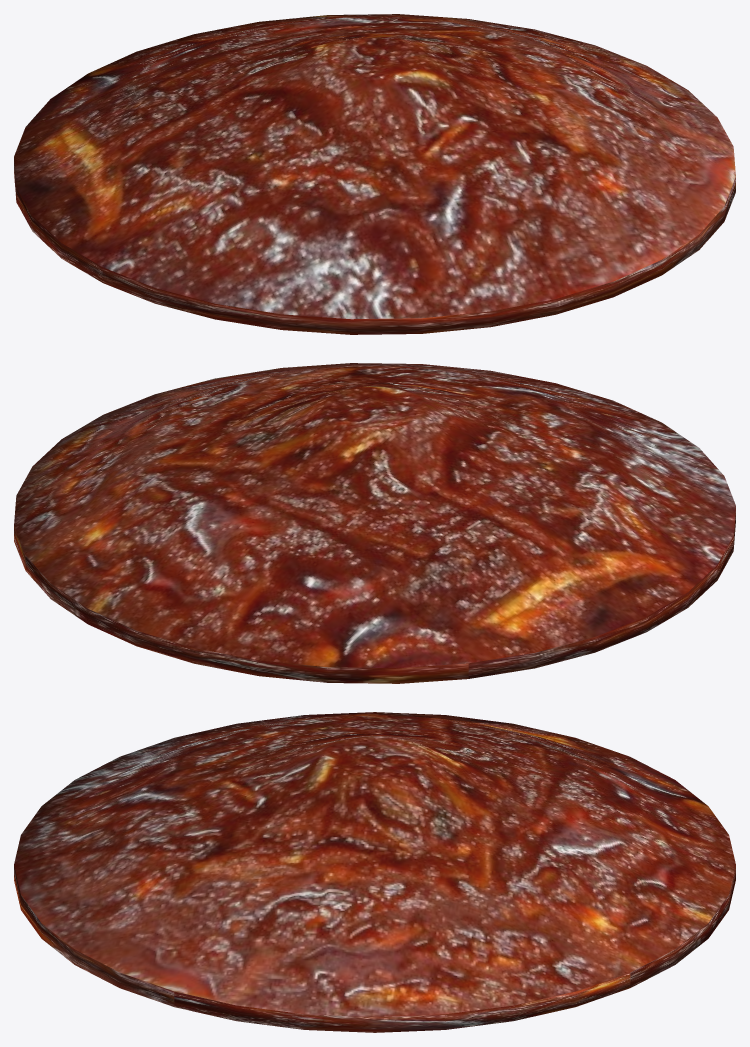
File: sambalCooked.fbx
The picture shows the model from 3 angles, top to bottom: view 1: azimuth 30°, elevation 25°; view 2: azimuth 150°, elevation 25°; view 3: azimuth 270°, elevation 25°; orthographic projection.
Parts seen in each view (by area): view 1: sambalcooked; view 2: sambalcooked; view 3: sambalcooked.
Part boxes in pixels (x1,y1,x2,y2): sambalcooked: (14,14,735,334); sambalcooked: (14,363,735,683); sambalcooked: (14,712,735,1032).
Bounding box in the file's own units: 40.47 × 7.56 × 40.47.
1 material, 1 textured.
